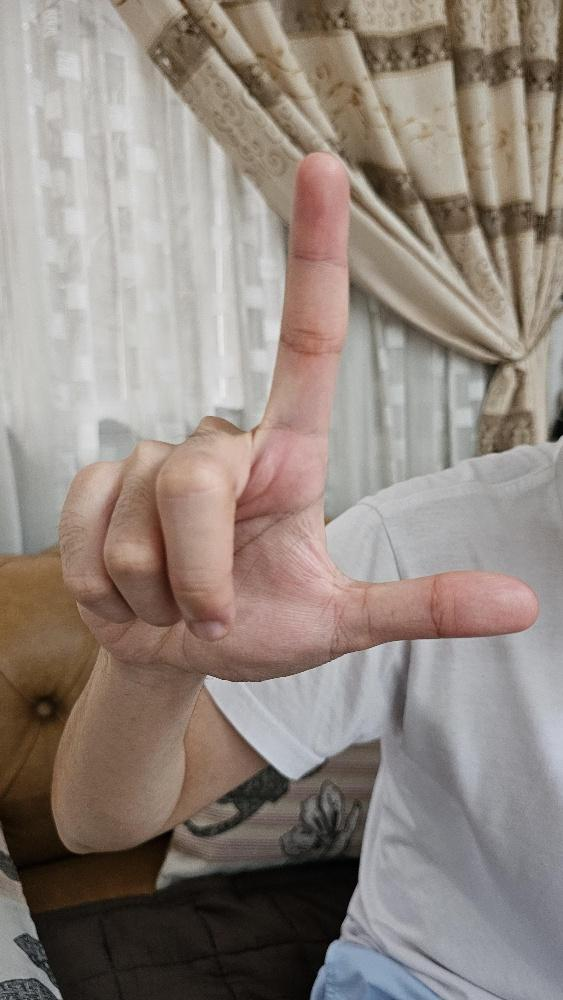l: (55, 149, 540, 684)
